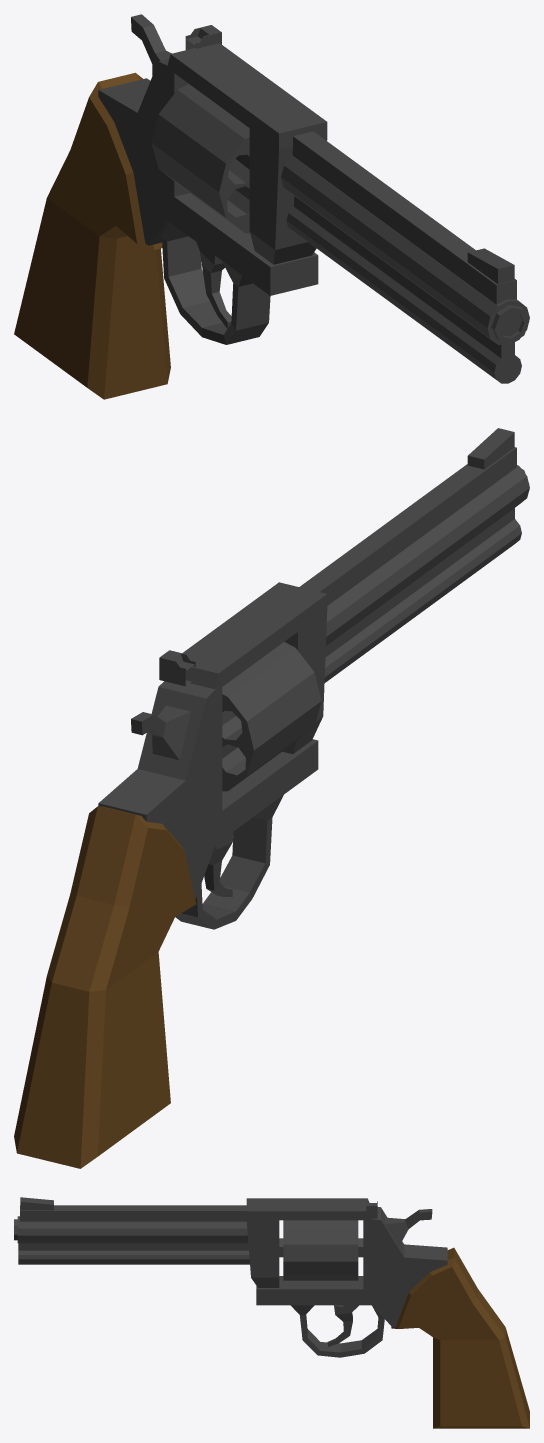
File: Revolver_02.fbx
3 views of the same model, one above another, from view 1: azimuth 30°, elevation 25°; view 2: azimuth 150°, elevation 25°; view 3: azimuth 270°, elevation 25° (orthographic). The views are drawn at different scales.
Visible parts, largest first — view 1: Revolver_02; view 2: Revolver_02; view 3: Revolver_02.
Part boxes in pixels (left/top/right/bottom): Revolver_02: left=14, top=14, right=529, bottom=399; Revolver_02: left=14, top=428, right=529, bottom=1168; Revolver_02: left=14, top=1197, right=529, bottom=1428.
Size of the model in its own units: 63.63 by 233 by 492.
